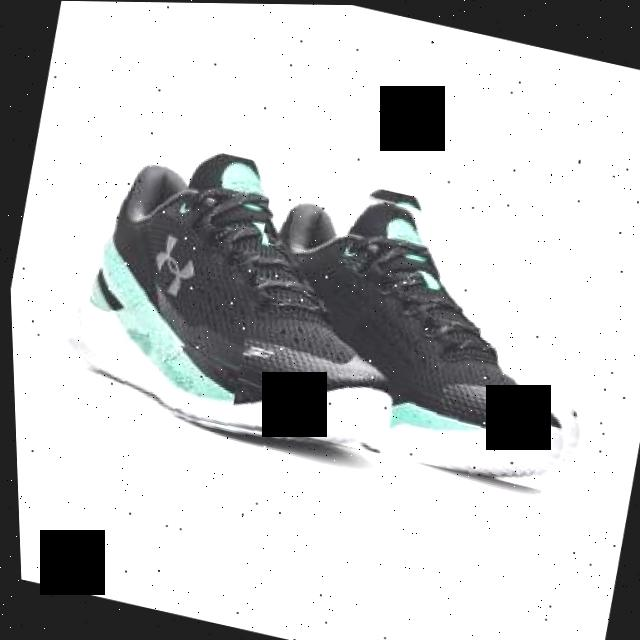shoe: (44, 124, 453, 470), (219, 168, 621, 495)
